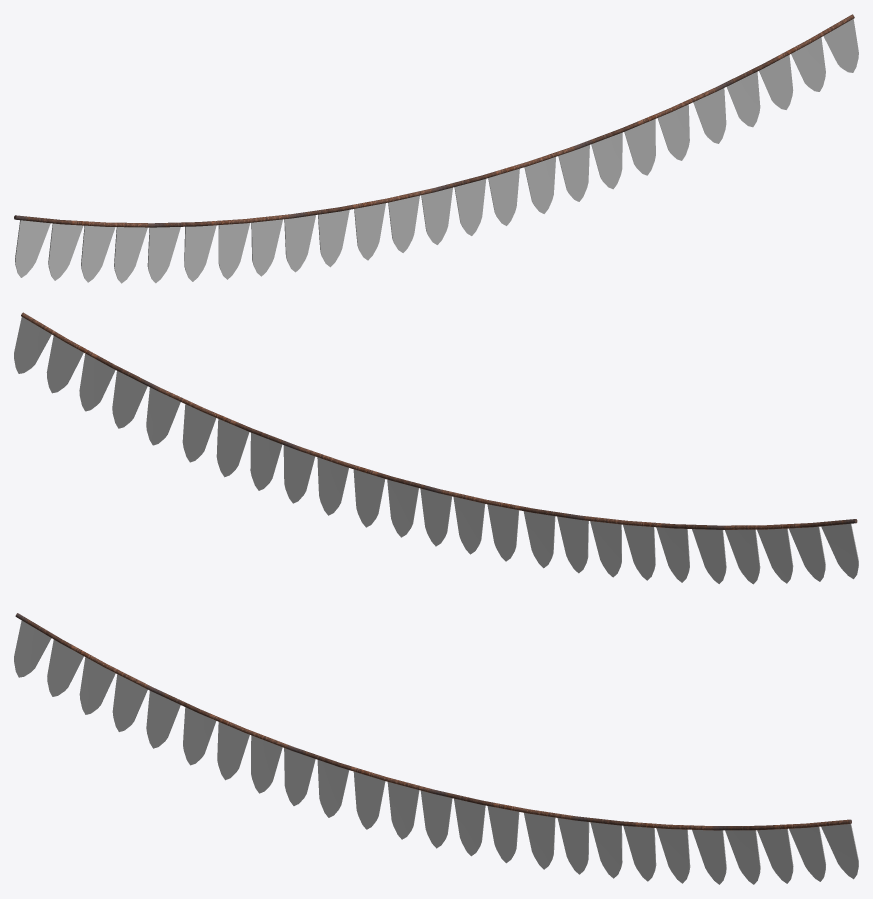
The model's file is lenta.FBX.
3 renders of one model, top to bottom at view 1: azimuth 30°, elevation 25°; view 2: azimuth 150°, elevation 25°; view 3: azimuth 330°, elevation 25°, orthographic.
Visible parts, largest first — view 1: Box005, Box004, Box003, Box002, Box001, Cylinder001; view 2: Box001, Box002, Box003, Box004, Box005, Cylinder001; view 3: Box005, Box004, Box003, Box002, Box001, Cylinder001.
Boxes of the visible parts, <box> form: Box005: <box>15,220,180,283</box>; Box004: <box>184,210,349,281</box>; Box003: <box>354,168,519,260</box>; Box002: <box>524,104,689,213</box>; Box001: <box>693,19,858,143</box>; Cylinder001: <box>14,14,854,227</box>; Box001: <box>14,317,180,445</box>; Box002: <box>182,404,348,515</box>; Box003: <box>353,469,519,561</box>; Box004: <box>523,511,689,582</box>; Box005: <box>692,523,858,584</box>; Cylinder001: <box>21,312,857,529</box>; Box005: <box>14,620,180,748</box>; Box004: <box>183,707,349,817</box>; Box003: <box>353,771,519,863</box>; Box002: <box>524,813,690,883</box>; Box001: <box>692,824,858,884</box>; Cylinder001: <box>15,613,851,830</box>.
Size of the model in its own units: 441 by 65.41 by 4.98.
